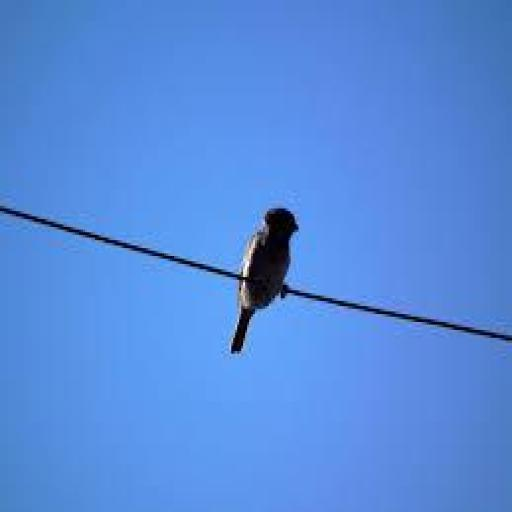birds: (227, 202, 302, 361)
